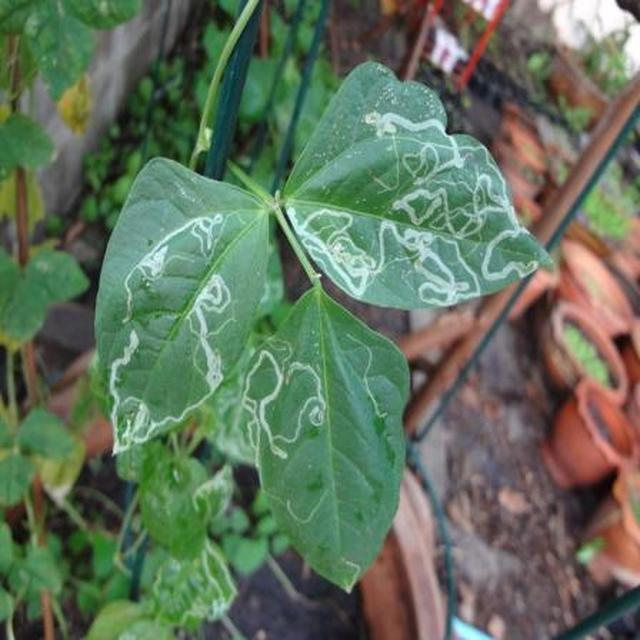Leaf Miner: (241, 263, 590, 634)
